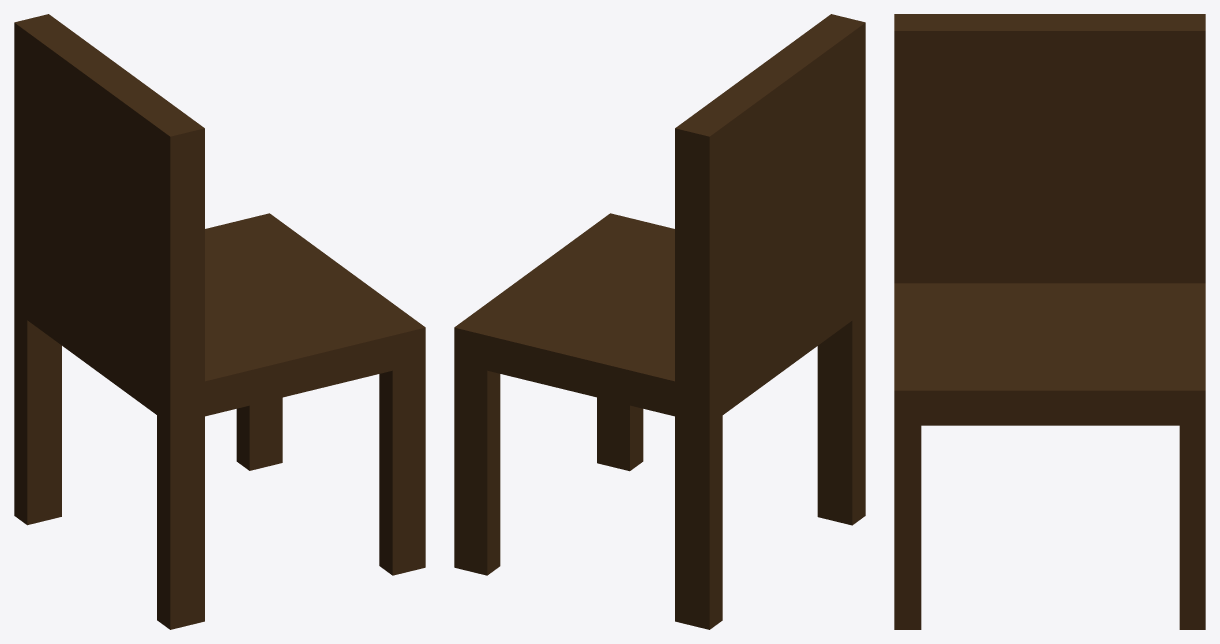
File: co_ChairWood02.fbx
The picture shows the model from 3 angles, left to right: view 1: azimuth 30°, elevation 25°; view 2: azimuth 150°, elevation 25°; view 3: azimuth 270°, elevation 25°; orthographic projection.
Visible parts, largest first — view 1: ChairC_01; view 2: ChairC_01; view 3: ChairC_01.
Boxes of the visible parts, left/top/right/bottom form: ChairC_01: left=14, top=14, right=425, bottom=629; ChairC_01: left=454, top=14, right=865, bottom=629; ChairC_01: left=894, top=14, right=1205, bottom=629.
Size of the model in its own units: 133 by 246 by 141.
